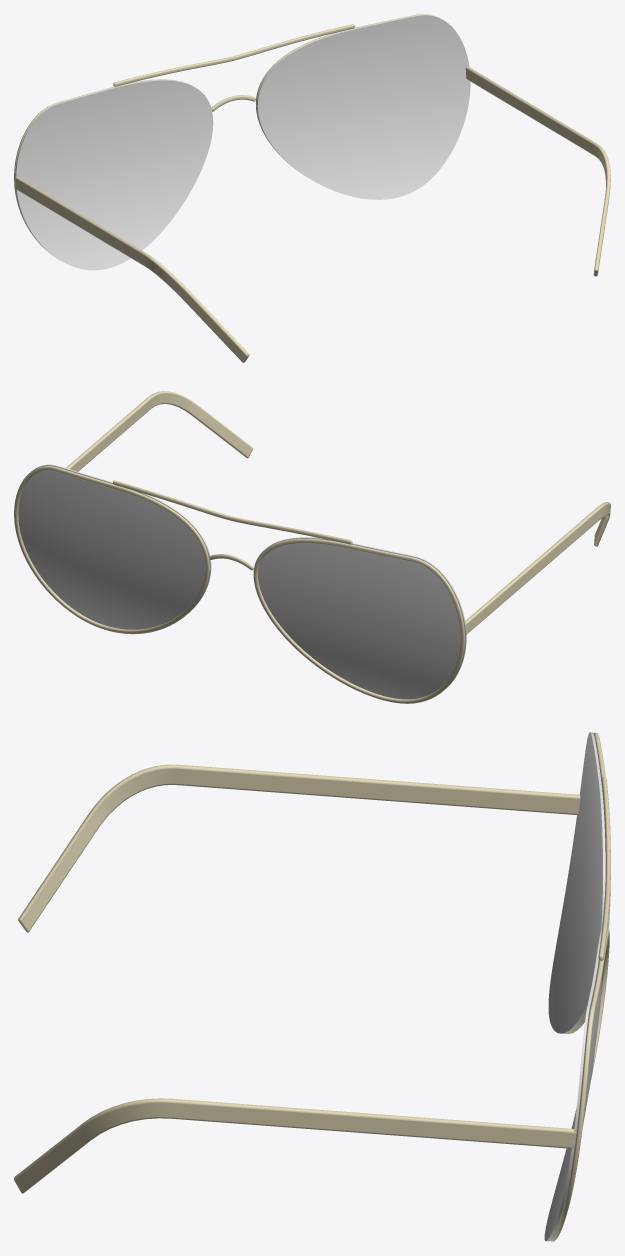
Rendered from done4.fbx.
3 views of the same model, one above another, from view 1: azimuth 30°, elevation 25°; view 2: azimuth 150°, elevation 25°; view 3: azimuth 270°, elevation 25° (orthographic). The views are drawn at different scales.
Parts seen in each view (by area): view 1: Assembly~17, Assembly~8, Assembly~12, Assembly~21, Body_2, Assembly~10; view 2: Assembly~6, Assembly~15, Assembly~10, Assembly~19, Assembly~21, Assembly~12, Body_2; view 3: Assembly~12, Assembly~21, Assembly~8, Assembly~19, Assembly~15, Body_2, Assembly~17, Assembly~6.
Boxes of the visible parts, <box> form: Assembly~17: <box>257,15,470,199</box>; Assembly~8: <box>16,80,213,270</box>; Assembly~12: <box>15,176,249,362</box>; Assembly~21: <box>465,67,610,276</box>; Body_2: <box>113,24,354,86</box>; Assembly~10: <box>14,79,191,254</box>; Assembly~6: <box>258,537,466,699</box>; Assembly~15: <box>18,464,211,629</box>; Assembly~10: <box>253,538,464,703</box>; Assembly~19: <box>14,466,209,634</box>; Assembly~21: <box>66,391,252,471</box>; Assembly~12: <box>465,502,610,635</box>; Body_2: <box>113,480,352,544</box>; Assembly~12: <box>18,764,580,932</box>; Assembly~21: <box>14,1098,576,1193</box>; Assembly~8: <box>548,732,602,1033</box>; Assembly~19: <box>550,930,609,1241</box>; Assembly~15: <box>546,929,602,1241</box>; Body_2: <box>598,777,610,960</box>; Assembly~17: <box>544,1108,576,1240</box>; Assembly~6: <box>563,732,605,1033</box>.
Size of the model in its own units: 15.61 by 5.53 by 11.54.
